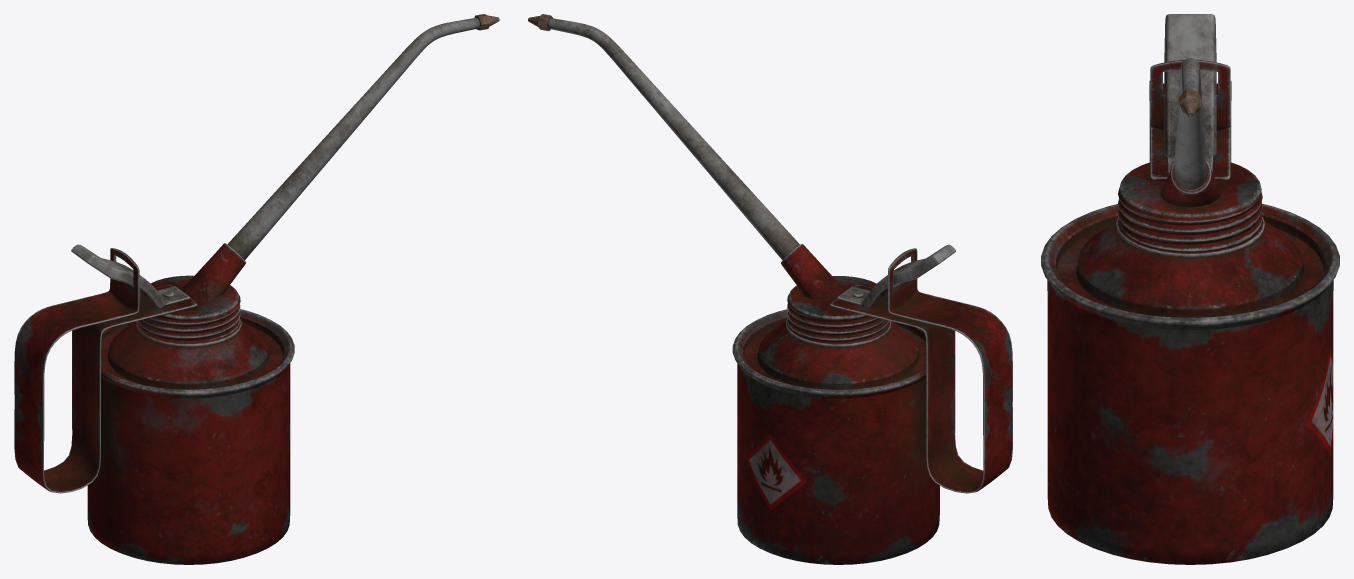
The picture shows the model from 3 angles, left to right: view 1: azimuth 30°, elevation 25°; view 2: azimuth 150°, elevation 25°; view 3: azimuth 270°, elevation 25°; orthographic projection. The views are drawn at different scales.
Parts seen in each view (by area): view 1: small_oil_can_01; view 2: small_oil_can_01; view 3: small_oil_can_01.
Part boxes in pixels (x1,y1,x2,y2): small_oil_can_01: [14, 14, 499, 564]; small_oil_can_01: [528, 14, 1012, 564]; small_oil_can_01: [1041, 14, 1339, 564].
Bounding box in the file's own units: 0.2661 × 0.2368 × 0.1038.
Materials: 1 (1 with a texture image).
